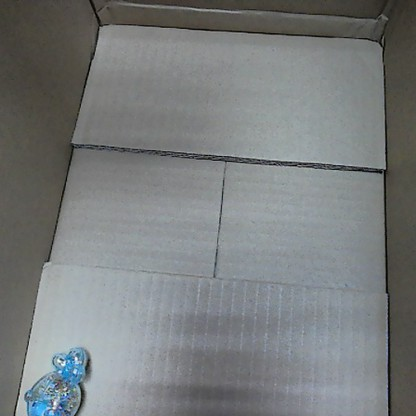bluefish: (22, 342, 91, 414)
